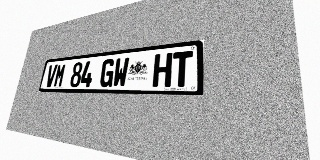4: (79, 61, 95, 87)
8: (69, 62, 84, 87)
G: (99, 58, 116, 87)
H: (152, 53, 173, 87)
M: (53, 63, 67, 87)
T: (171, 51, 193, 87)
V: (45, 64, 58, 87)
W: (112, 57, 130, 87)
